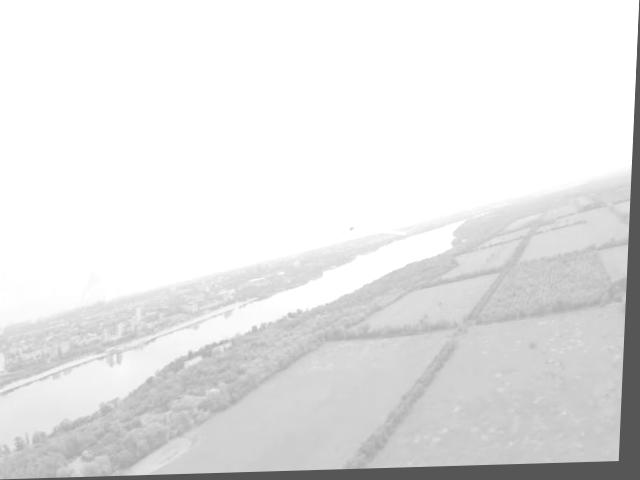hedef: (301, 207, 409, 253)
